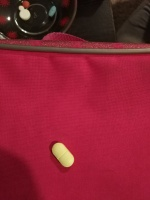Aferin: (51, 142, 75, 169)
